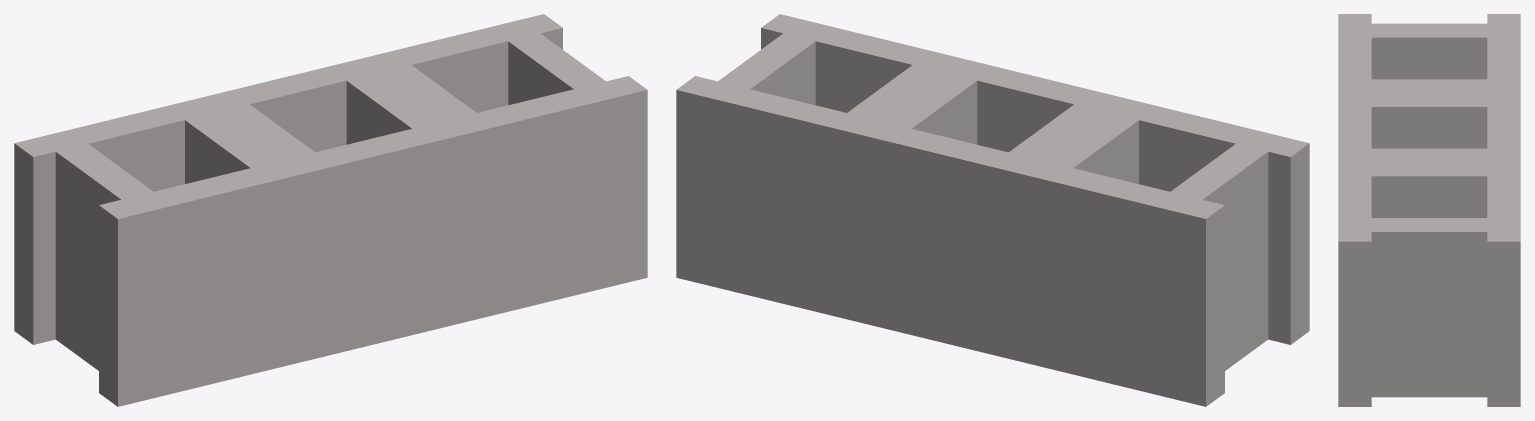
The model's file is Concrete_Block_04.fbx.
The picture shows the model from 3 angles, left to right: view 1: azimuth 30°, elevation 25°; view 2: azimuth 150°, elevation 25°; view 3: azimuth 270°, elevation 25°; orthographic projection. The views are drawn at different scales.
Parts seen in each view (by area): view 1: Concrete_Block_04; view 2: Concrete_Block_04; view 3: Concrete_Block_04.
Part boxes in pixels (bbox=[...]): Concrete_Block_04: bbox=[14, 14, 647, 406]; Concrete_Block_04: bbox=[676, 14, 1309, 406]; Concrete_Block_04: bbox=[1338, 14, 1520, 406].
Size of the model in its own units: 70.81 by 24 by 24.
